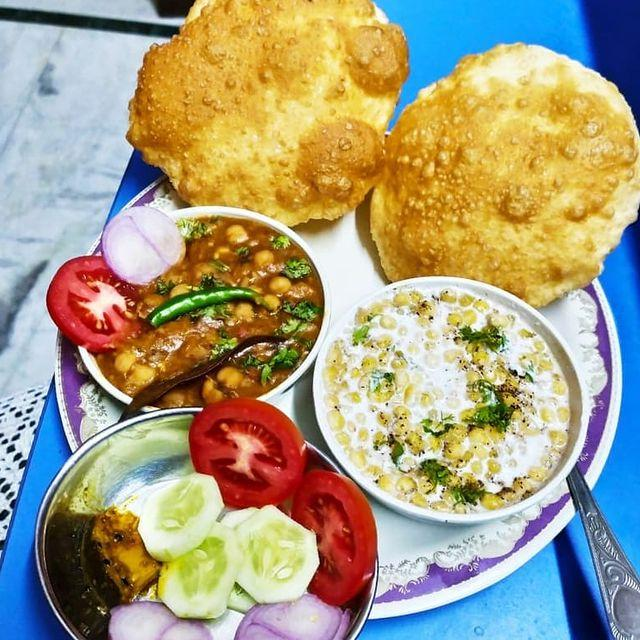Chole: (153, 228, 294, 342)
